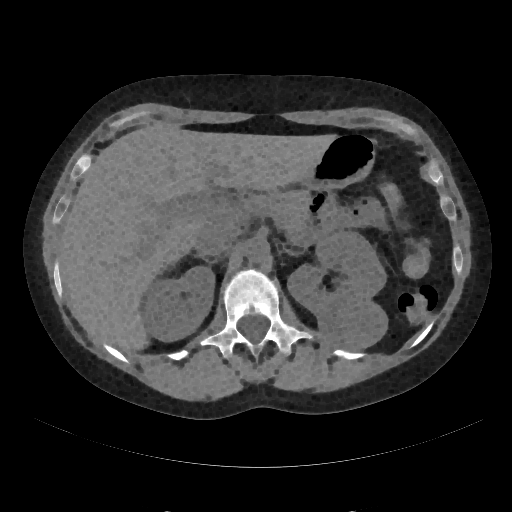Lesion: (310, 286, 390, 351)
